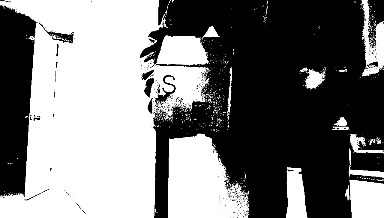S: (159, 71, 176, 94)
